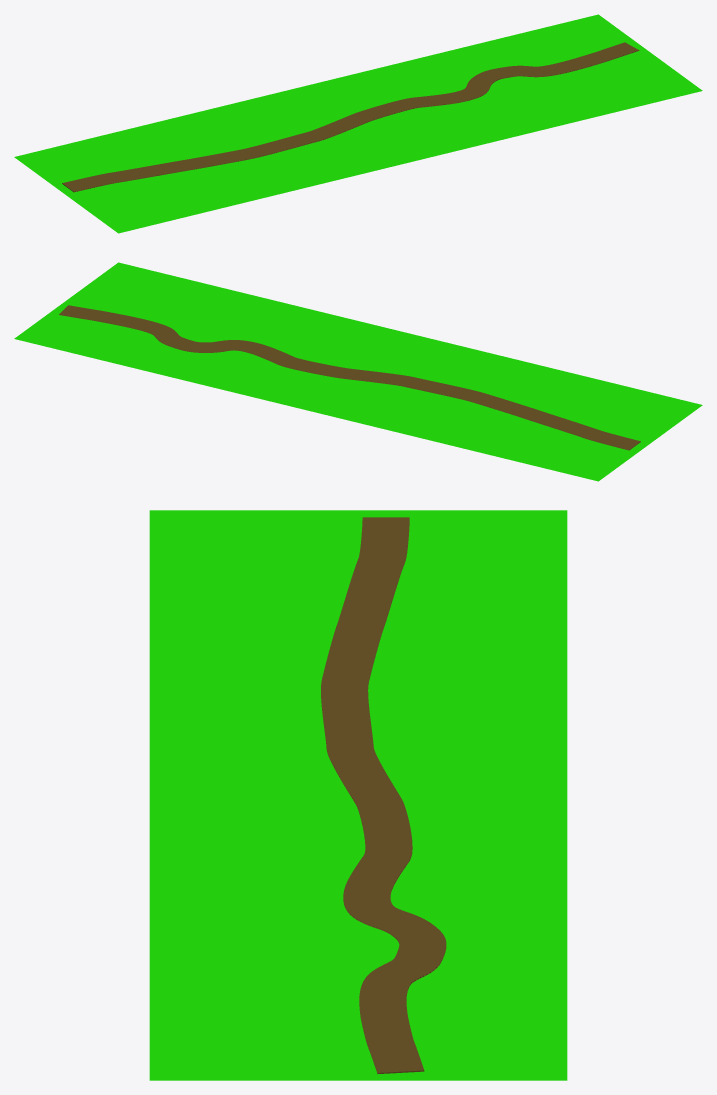
Rendered from race_track_4a.fbx.
3 views of the same model, one above another, from view 1: azimuth 30°, elevation 25°; view 2: azimuth 150°, elevation 25°; view 3: azimuth 270°, elevation 25° (orthographic). The views are drawn at different scales.
Parts seen in each view (by area): view 1: RaceTrack_Offroad, RaceTrack_Ground; view 2: RaceTrack_Offroad, RaceTrack_Ground; view 3: RaceTrack_Offroad, RaceTrack_Ground.
Boxes of the visible parts, box(x1,y1,x2,y2) form: RaceTrack_Offroad: box(14, 14, 702, 233); RaceTrack_Ground: box(62, 42, 639, 192); RaceTrack_Offroad: box(14, 262, 702, 481); RaceTrack_Ground: box(59, 305, 640, 450); RaceTrack_Offroad: box(149, 510, 567, 1080); RaceTrack_Ground: box(321, 517, 446, 1074).
Size of the model in its own units: 61598 by 60.71 by 19065.
